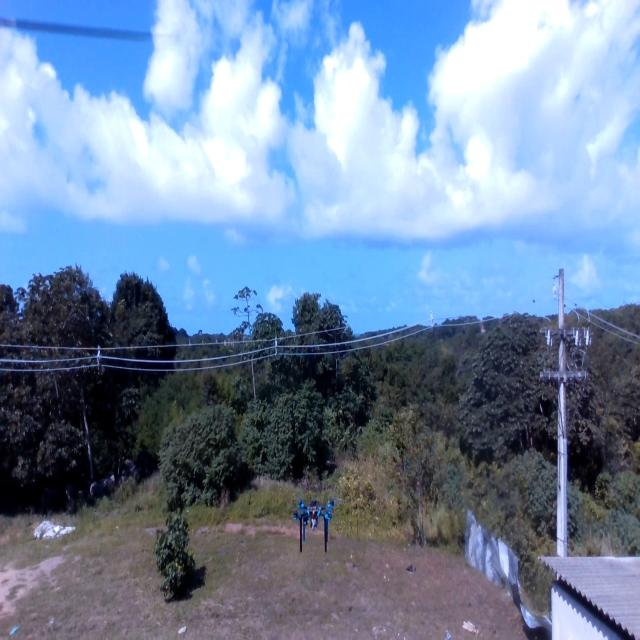-uav-: (288, 484, 338, 562)
